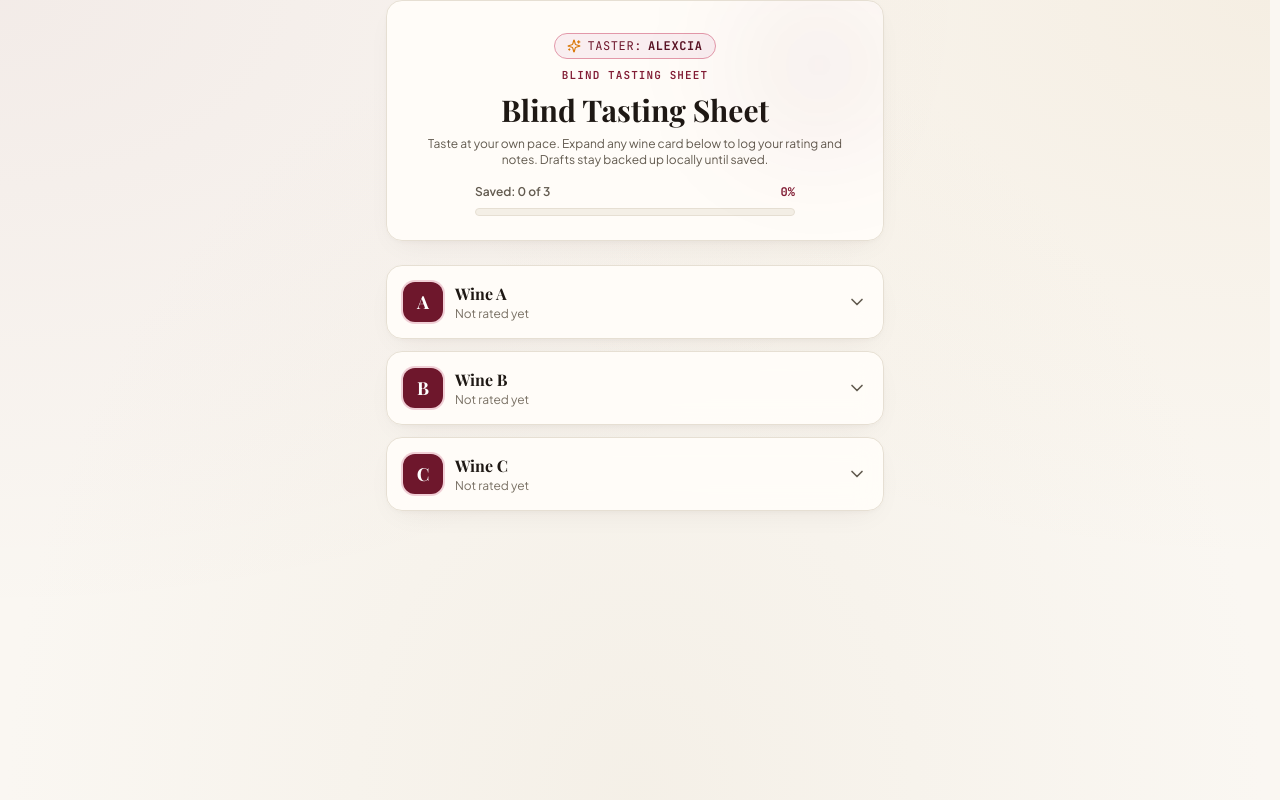
Scenario: TastingSheet › protects active dirty drafts from background polling updates while refreshing untouched wines
Later steps or results of the test are not shown.
Click the button "A Wine A Not rated yet".
click(423, 302)  # box [387, 266, 883, 338]
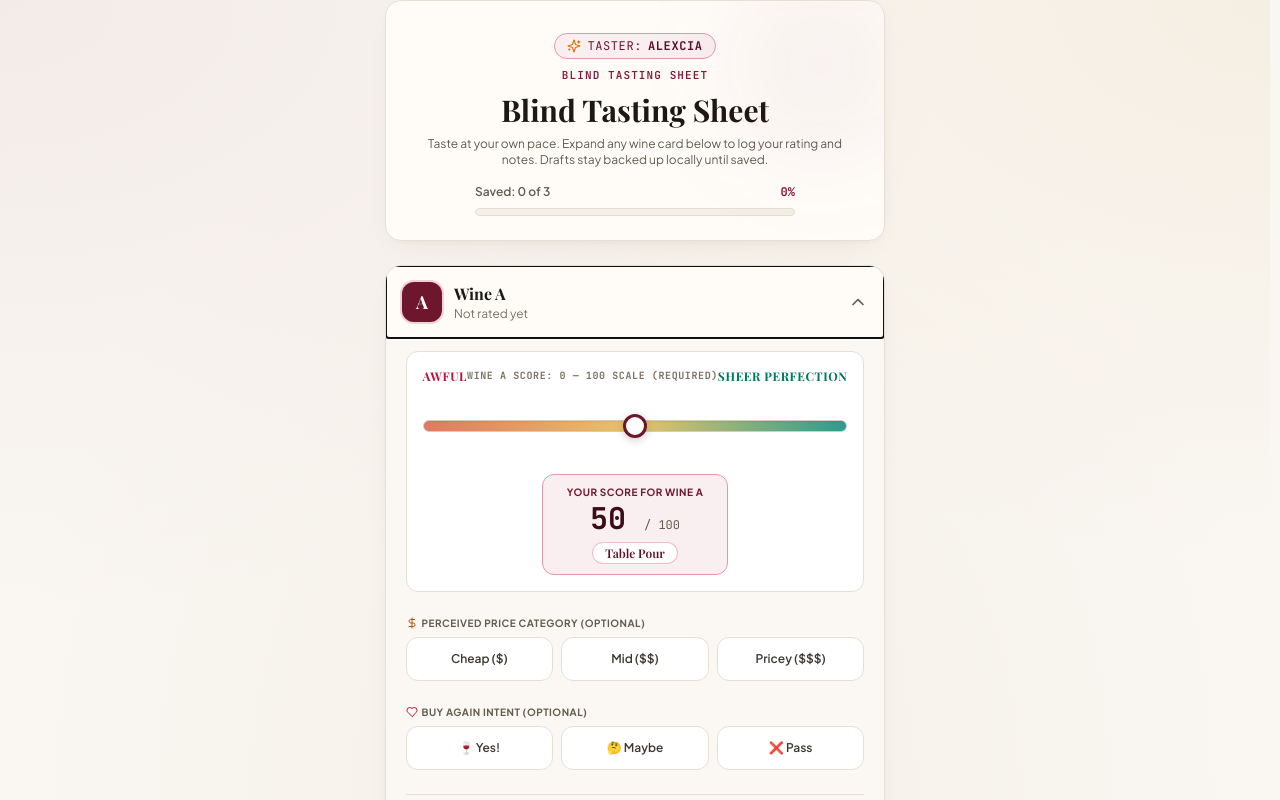
Set the slider labelled "Wine A Score: 0 — 100 Scale (Required)" to "91" at (803, 426), box [422, 404, 848, 448]
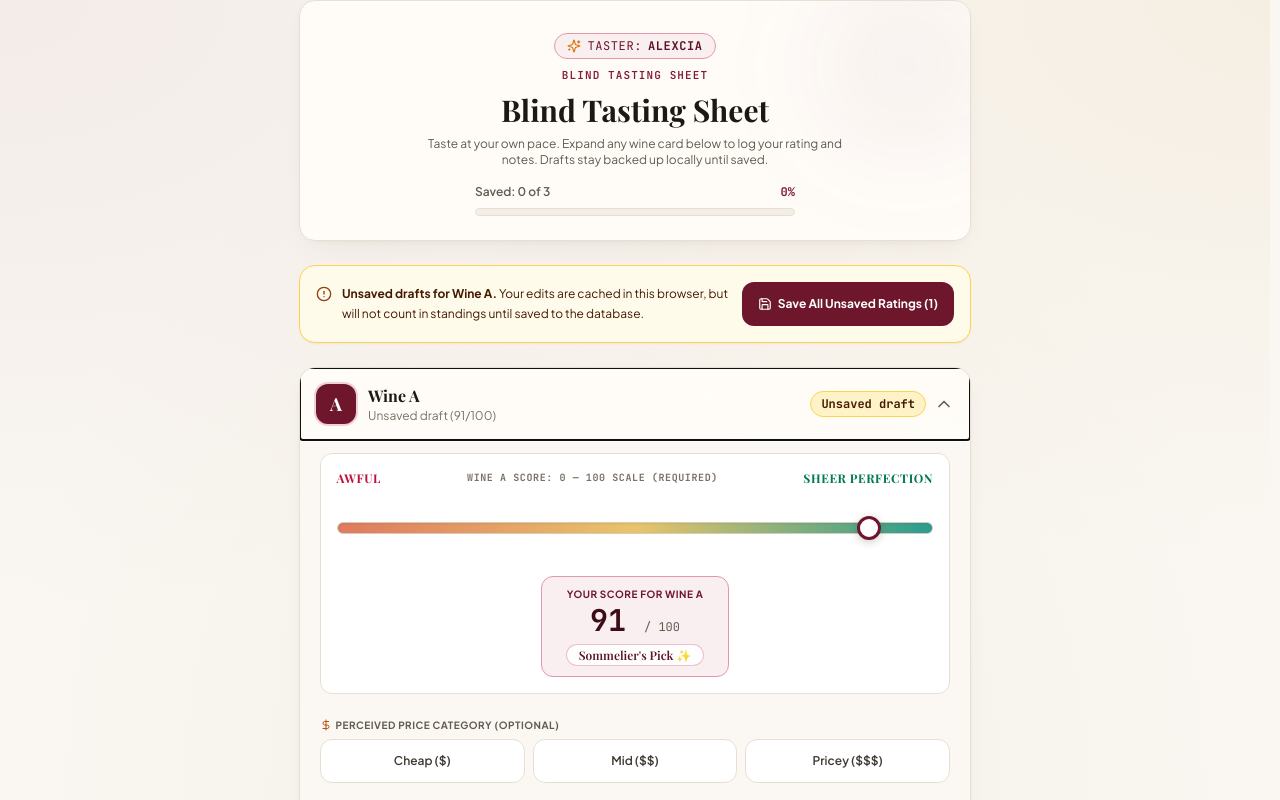
Now the text "Unsaved draft (91/100)" is shown, box [368, 408, 496, 424]
